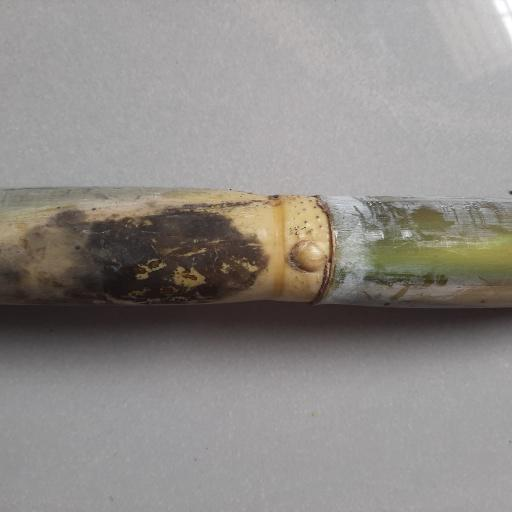Bud: (287, 239, 328, 275)
